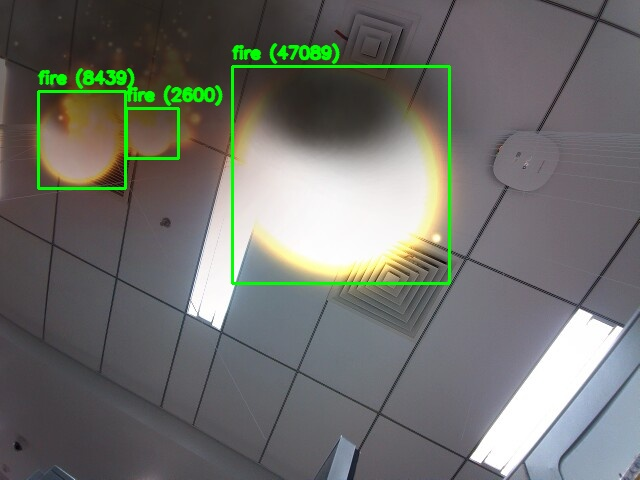fire: (232, 66, 449, 283), (38, 91, 125, 188), (126, 108, 178, 158)
